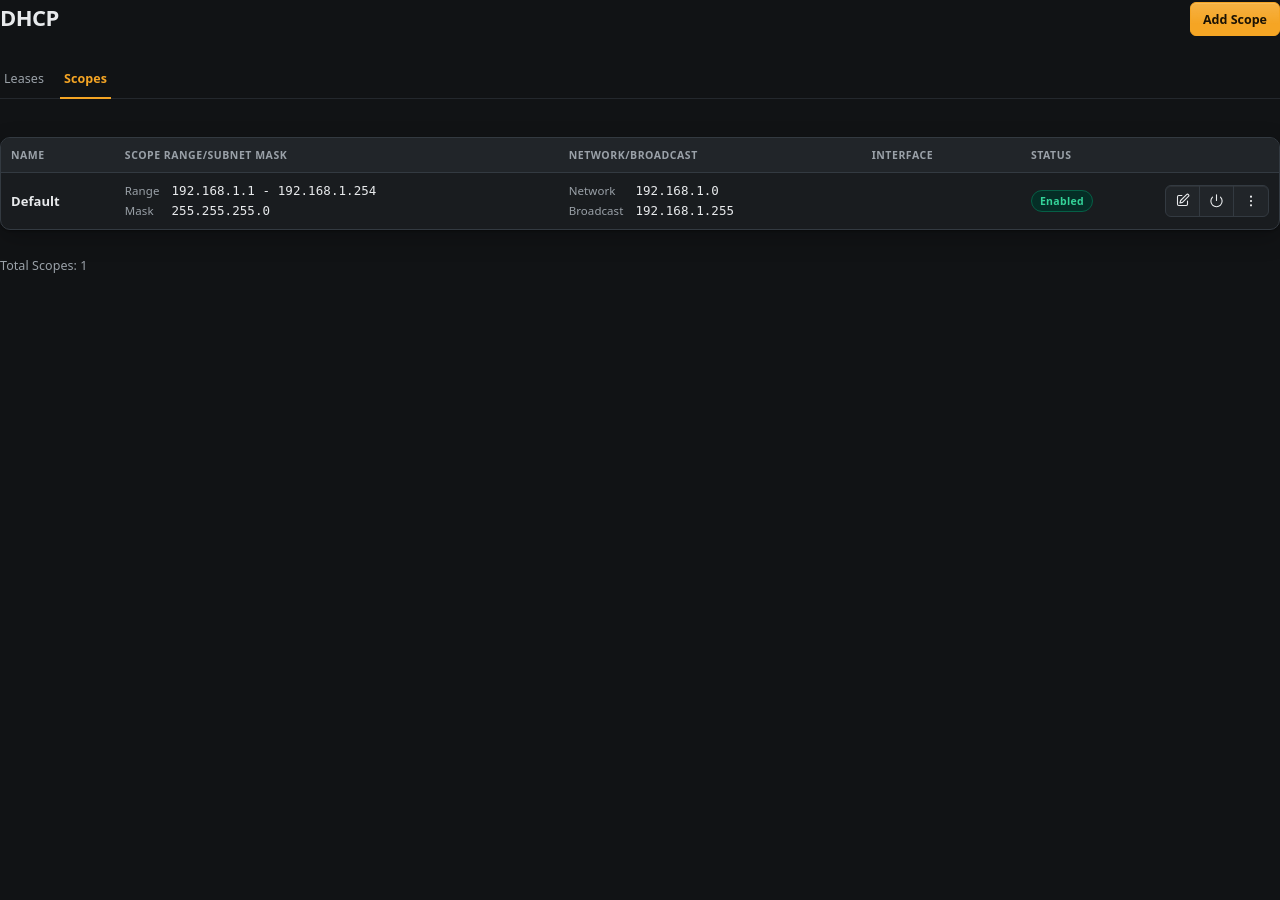
DHCP › Scopes › disabling DOES ask, with the scope name in the text
Check: the text "Default" is shown, box [1, 172, 115, 229]
What coordinates should you click on to do the following:
click the button named "Disable Scope"
I would click on:
 (1216, 201)
Its box is [1199, 186, 1233, 216].
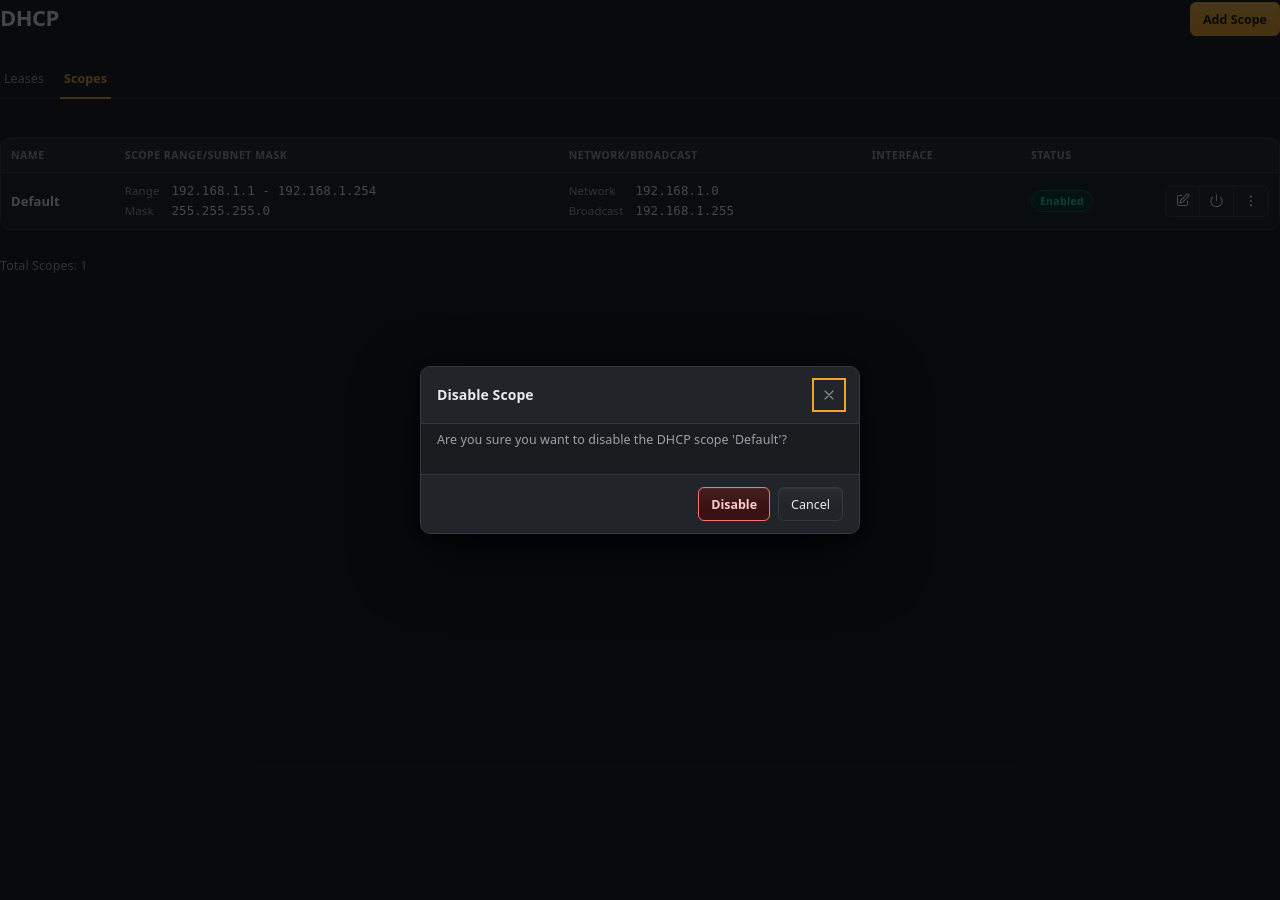
Check: the text "Are you sure you want to disable the DHCP scope 'Default'?" is shown, box [437, 430, 843, 450]
What coordinates should you click on to do the following:
click the button "Disable"
I would click on:
 (734, 504)
Its box is [698, 487, 770, 521].
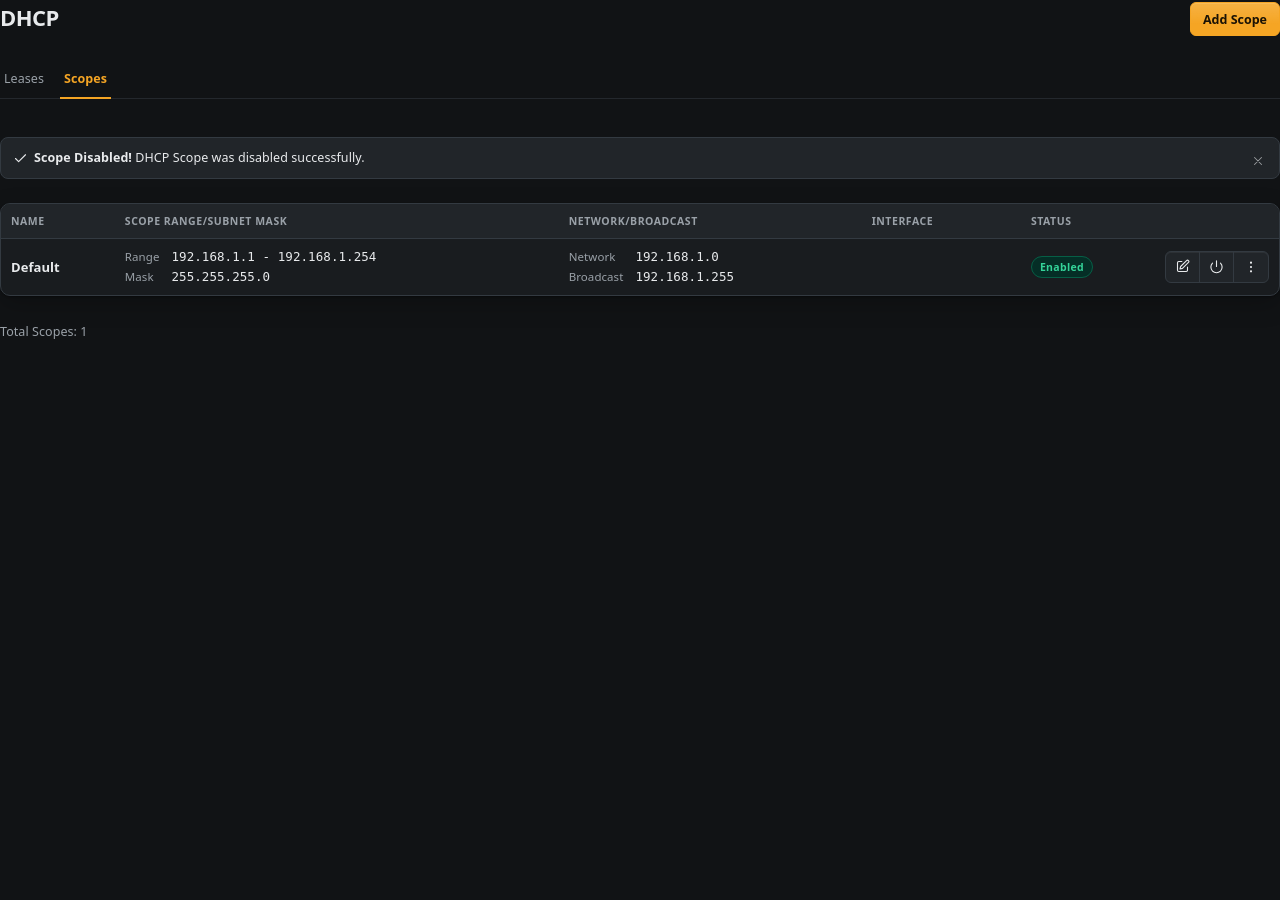
Check: the text "Scope Disabled!" is shown, box [34, 149, 132, 166]
